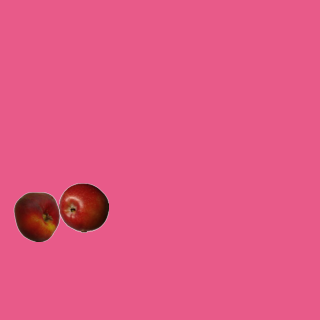Apple Braeburn: (58, 182, 108, 232)
Nectarine Flat: (11, 191, 61, 241)
